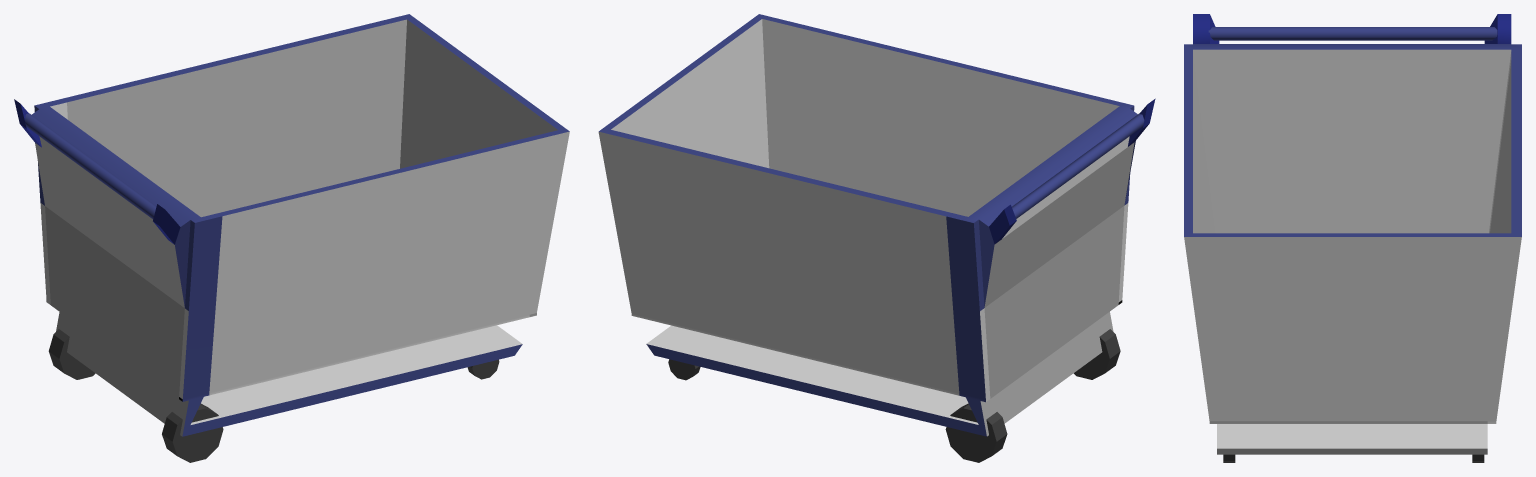
File: SM_shoppingcart_001.fbx
The picture shows the model from 3 angles, left to right: view 1: azimuth 30°, elevation 25°; view 2: azimuth 150°, elevation 25°; view 3: azimuth 270°, elevation 25°; orthographic projection. The views are drawn at different scales.
Visible parts, largest first — view 1: SM_shoppingcart_001; view 2: SM_shoppingcart_001; view 3: SM_shoppingcart_001.
Boxes of the visible parts, x1=… form: SM_shoppingcart_001: x1=14, y1=14, x2=569, y2=462; SM_shoppingcart_001: x1=598, y1=14, x2=1155, y2=462; SM_shoppingcart_001: x1=1184, y1=14, x2=1521, y2=462.
Size of the model in its own units: 170 by 110 by 118.
